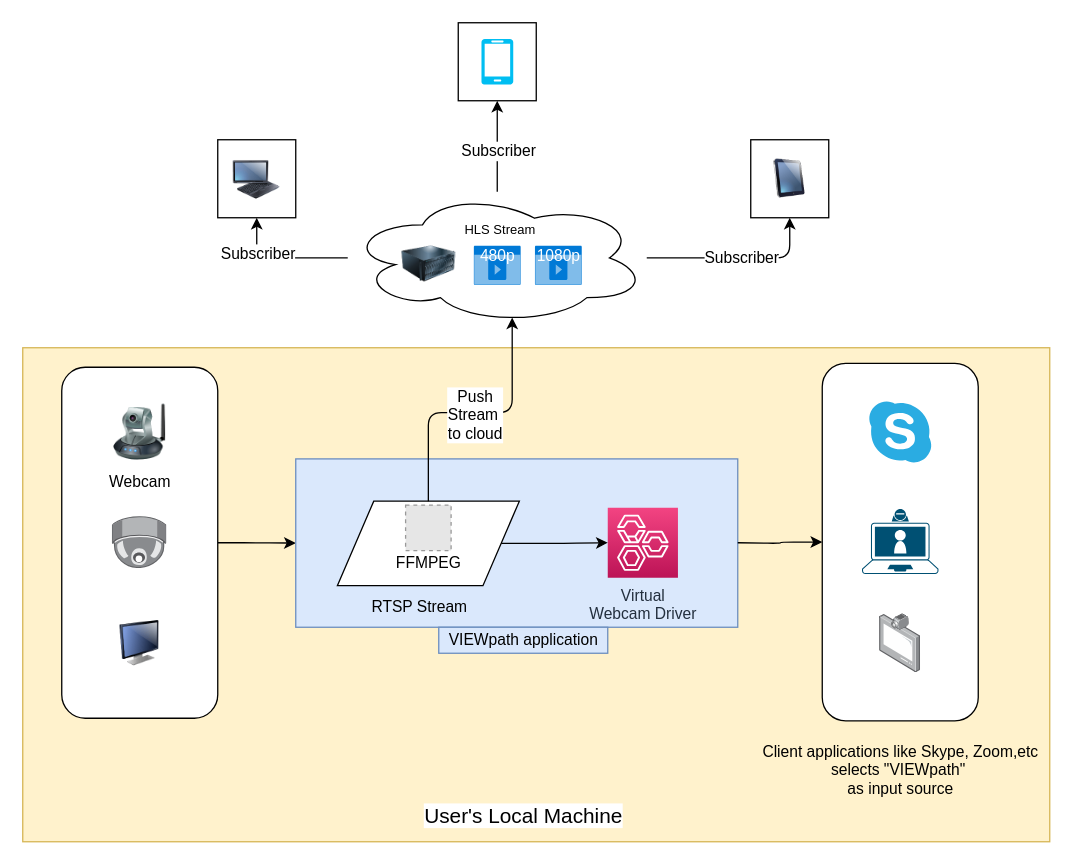
This 1073x864 diagram has some shape labels left out. Grey dashed boxes stand in for pictures. The shapes that lost their labels are listed below. From the top down, each one's centre as x and y in pixels, then its label:
point 139,542: EDUCAM360
point 139,643: Screen Share
